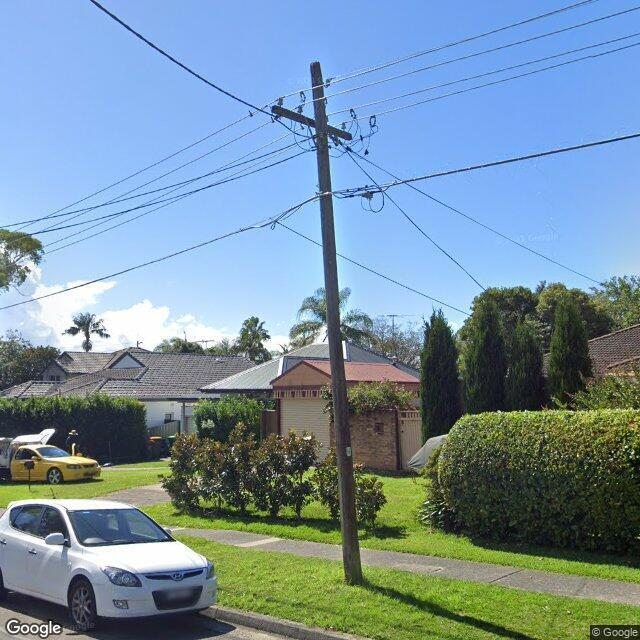crossarm: (269, 104, 356, 142)
timber-pole: (307, 62, 363, 584)
